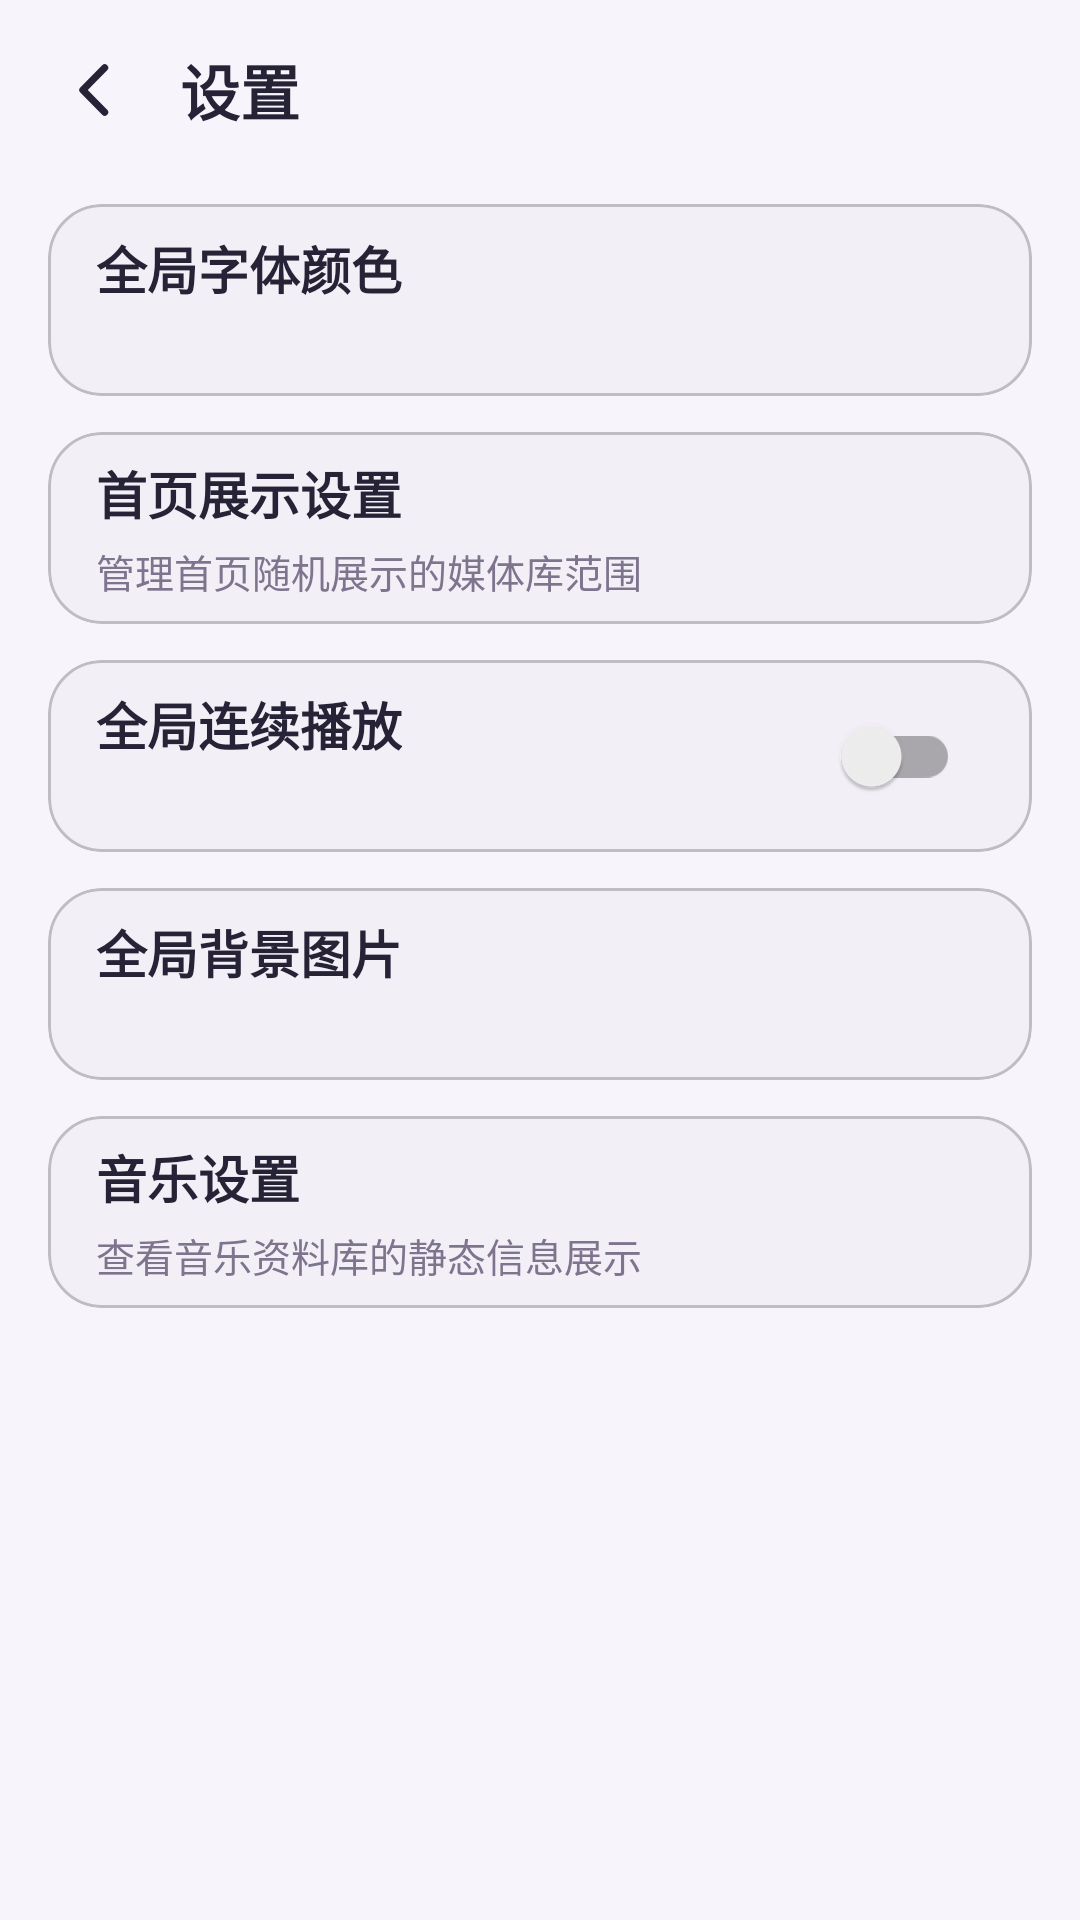

Named icons in this screenshot (1080px x 1920px) and their centers, (x=x, y=y):
返回: (x=94, y=90)
